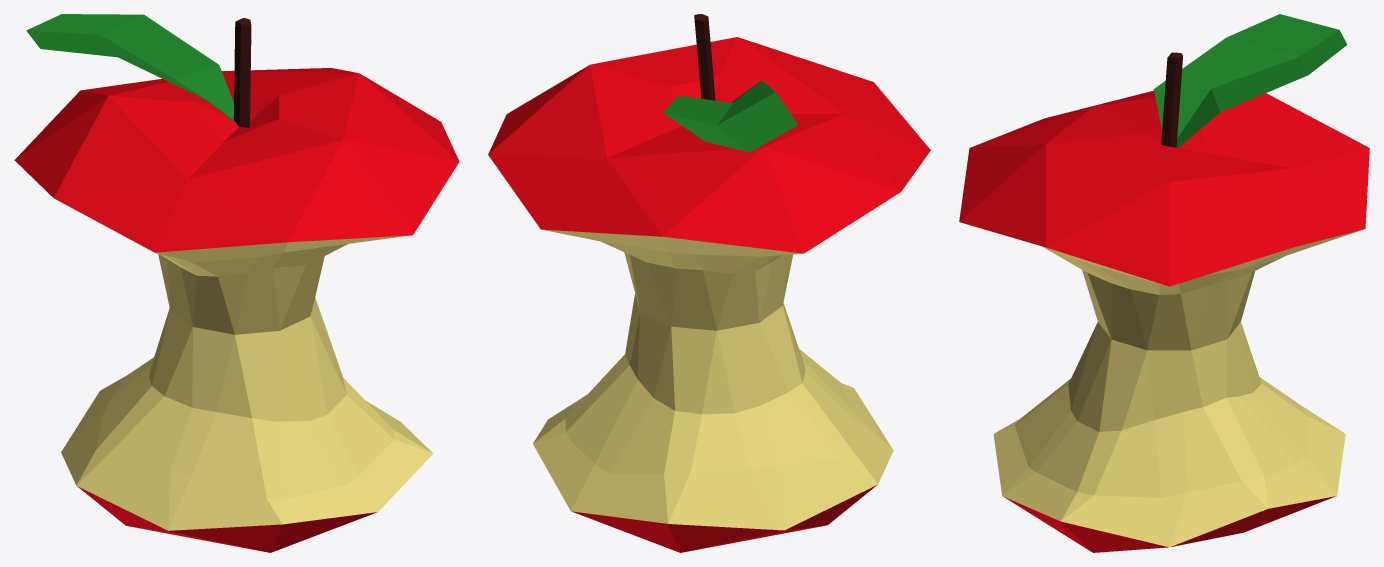
The model's file is apple_core.glb.
3 views of the same model, side by side, from view 1: azimuth 30°, elevation 25°; view 2: azimuth 150°, elevation 25°; view 3: azimuth 270°, elevation 25° (orthographic). The views are drawn at different scales.
Visible parts, largest first — view 1: AppleCore.001; view 2: AppleCore.001; view 3: AppleCore.001.
Part boxes in pixels (x1,y1,x2,y2): AppleCore.001: [14, 14, 459, 552]; AppleCore.001: [488, 14, 930, 552]; AppleCore.001: [959, 14, 1369, 552].
Bounding box in the file's own units: 0.1745 × 0.2167 × 0.166.
Materials: 1 (1 with a texture image).
